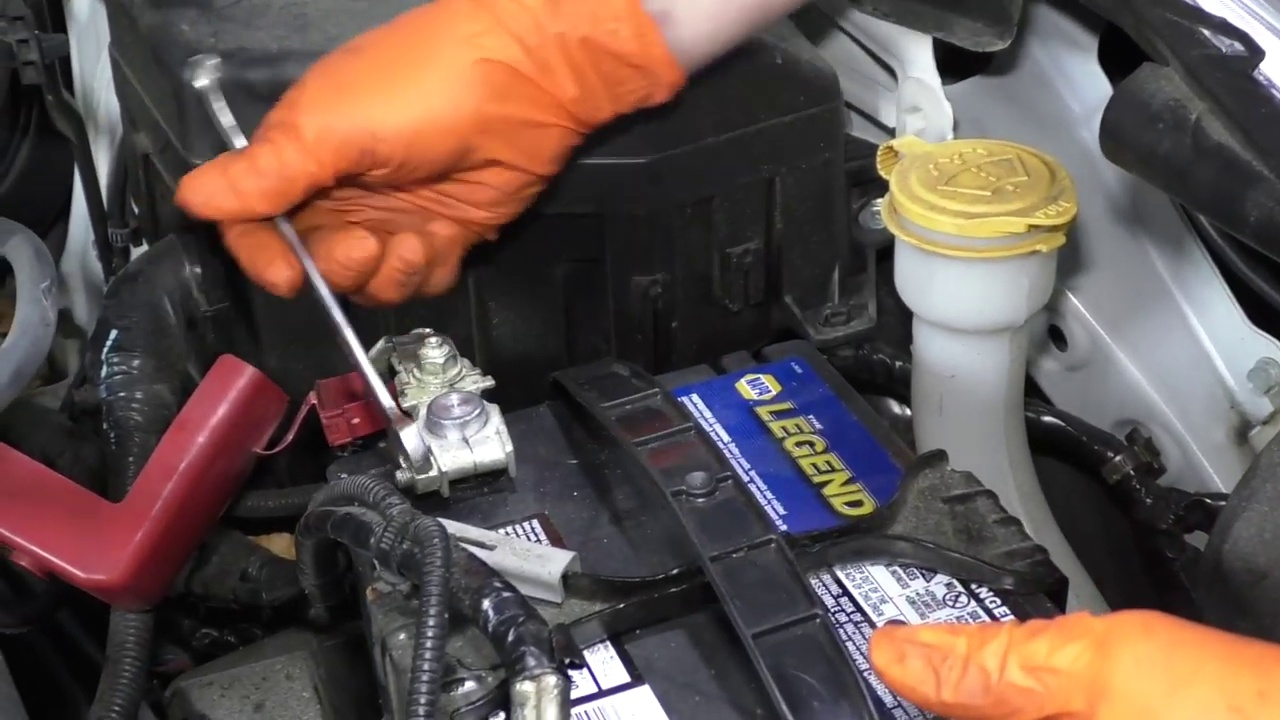battery: (315, 324, 1066, 720)
pos_connected: (175, 325, 534, 541)
pos_touched: (249, 141, 524, 509)
